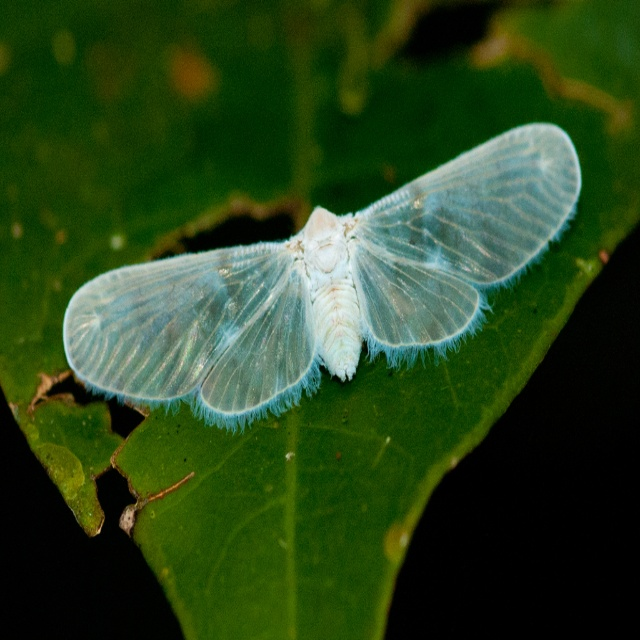Butterfly: (63, 122, 582, 437)
